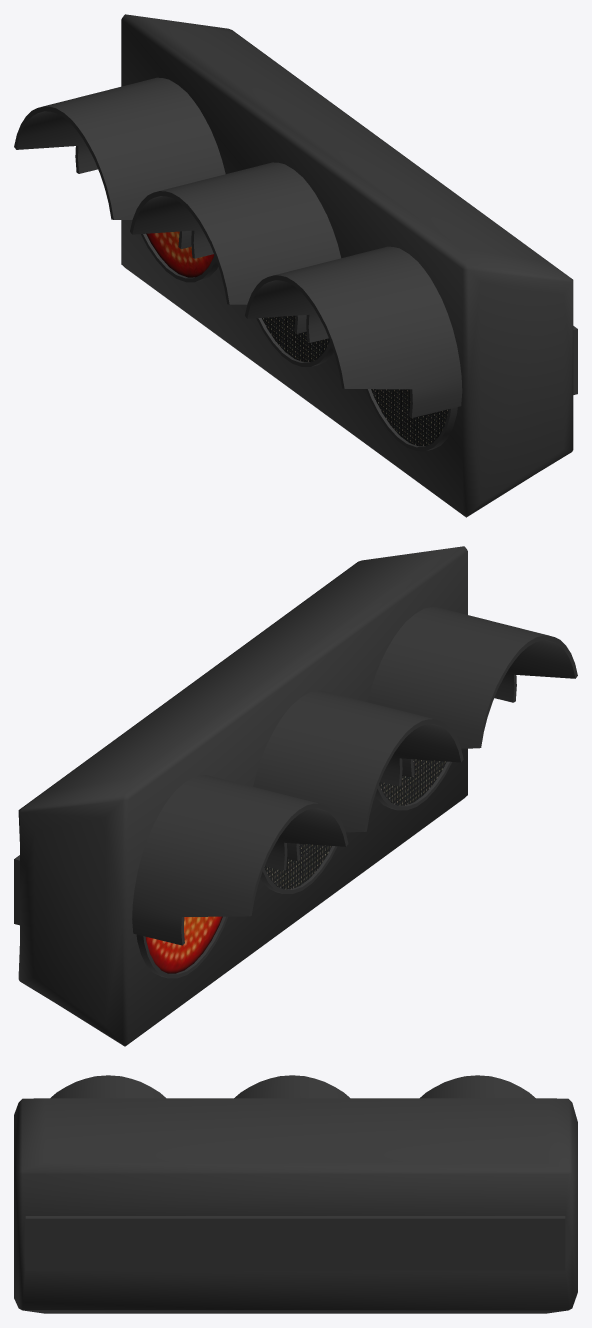
File: 横排全方位灯_RedLight.fbx
3 renders of one model, top to bottom at view 1: azimuth 30°, elevation 25°; view 2: azimuth 150°, elevation 25°; view 3: azimuth 270°, elevation 25°, orthographic. The views are drawn at different scales.
Visible parts, largest first — view 1: 横排全方位灯_RedLight; view 2: 横排全方位灯_RedLight; view 3: 横排全方位灯_RedLight.
Boxes of the visible parts, left/top/right/bottom form: 横排全方位灯_RedLight: left=14, top=14, right=577, bottom=517; 横排全方位灯_RedLight: left=14, top=546, right=577, bottom=1046; 横排全方位灯_RedLight: left=14, top=1075, right=577, bottom=1313.
Bounding box in the file's own units: 0.6 × 0.65 × 1.58.
3 materials, 2 textured.
